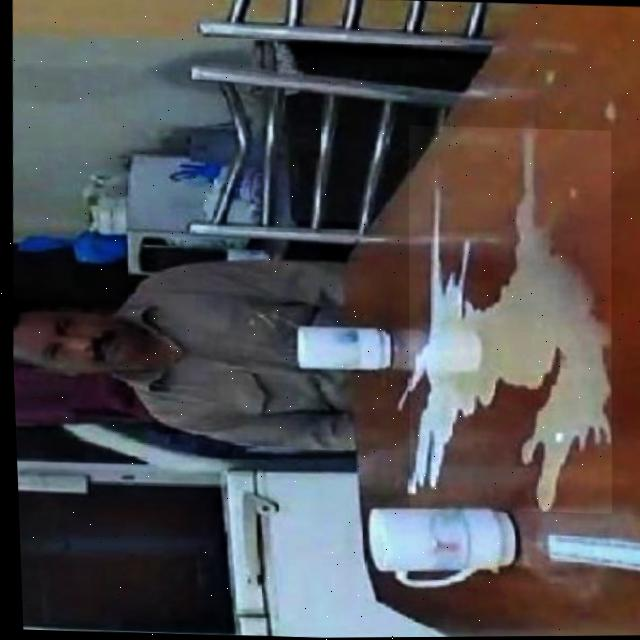spillage: (405, 129, 607, 512)
